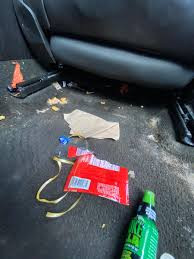glass: (110, 184, 174, 259)
paper: (41, 145, 136, 211), (60, 109, 131, 145)
